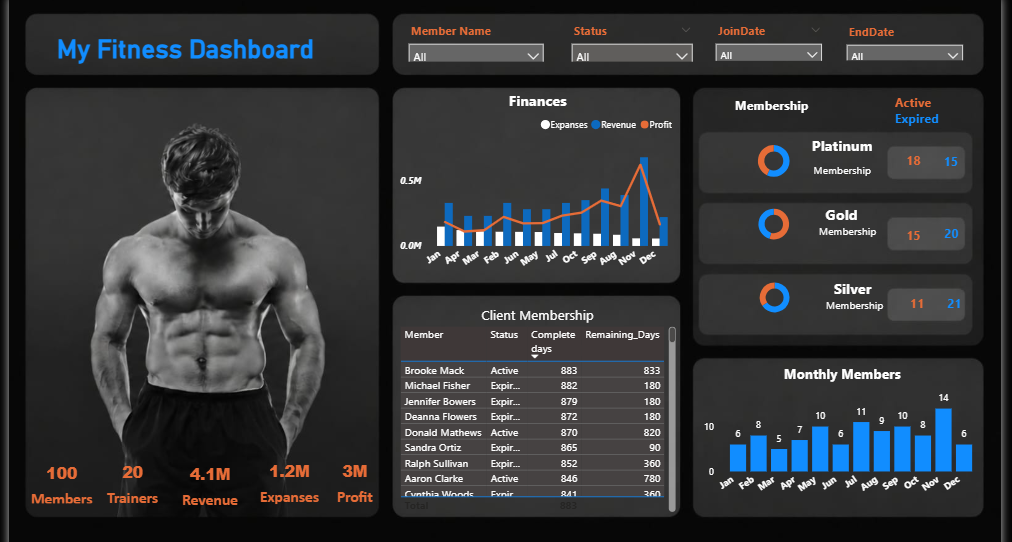

What the dashboard file says about the page in this screenshot:
{"tool":"powerbi","page":{"name":"Page 1","canvas":[1280,720],"ordinal":0},"visuals":[{"type":"card","fields":{"Values":["_Measures.Users_Count"]},"box":[17,598.1,102,60.9],"z":0},{"type":"card","fields":{"Values":["Count(Users.Trainer Name)"]},"box":[102,596.7,114.8,63.8],"z":1000},{"type":"card","fields":{"Values":["_Measures.Revenue"]},"box":[216.9,591,85,79.4],"z":2000},{"type":"card","fields":{"Values":["_Measures.Expanses"]},"box":[314.6,593.9,93.5,66.6],"z":3000},{"type":"lineClusteredColumnComboChart","title":"Finances","fields":{"Category":["Calendar.month"],"Y":["_Measures.Expanses","_Measures.Revenue"],"Y2":["_Measures.Profit"]},"box":[498.9,121.9,365.7,248],"z":4000},{"type":"card","fields":{"Values":["_Measures.Profit"]},"box":[408.2,592.4,76.5,68],"z":5000},{"type":"columnChart","title":"Monthly Members","fields":{"Y":["_Measures.Users_Count"],"Category":["Calendar.Month"]},"box":[891.5,474.8,367.1,185.7],"z":6000},{"type":"tableEx","title":"Client Membership","fields":{"Values":["Users.UserName","Users.Status","_Measures.Complete days","_Measures.Remaining_Days"]},"box":[498.9,398.3,365.7,272.1],"z":7000},{"type":"textbox","box":[1026.1,175.7,99.2,38.3],"z":8000},{"type":"textbox","box":[1043.1,265,63.8,42.5],"z":9000},{"type":"textbox","box":[1058.7,360,66.6,38.3],"z":10000},{"type":"textbox","box":[1026.1,209.8,109.1,35.4],"z":11000},{"type":"textbox","box":[1040.3,289.1,95,35.4],"z":12000},{"type":"textbox","box":[1048.8,384.1,85,28.3],"z":13000},{"type":"textbox","box":[56.7,43.9,351.5,49.6],"z":14000},{"type":"donutChart","fields":{"Y":["_Measures.user_Silver"],"Category":["Users.Status"]},"box":[935.4,360,104.9,58.1],"z":15000},{"type":"donutChart","fields":{"Y":["_Measures.user_platinum"],"Category":["Users.Status"]},"box":[925.5,265,123.3,59.5],"z":16000},{"type":"donutChart","fields":{"Y":["_Measures.user_Gold"],"Category":["Users.Status"]},"box":[946.8,178.6,79.4,69.4],"z":17000},{"type":"card","fields":{"Values":["_Measures.Platinum_Active"]},"box":[1146.6,199.8,39.7,28.3],"z":18000},{"type":"card","fields":{"Values":["_Measures.Platinum_Expired"]},"box":[1194.8,195.6,41.1,39.7],"z":19000},{"type":"card","fields":{"Values":["_Measures.Gold_Active"]},"box":[1138.1,289.1,58.1,42.5],"z":20000},{"type":"card","fields":{"Values":["_Measures.Gold_Expired"]},"box":[1196.2,289.1,39.7,39.7],"z":21000},{"type":"card","fields":{"Values":["_Measures.Silver_Expired"]},"box":[1199.1,372.8,42.5,51],"z":22000},{"type":"card","fields":{"Values":["_Measures.Silver_Active"]},"box":[1146.6,372.8,49.6,51],"z":23000},{"type":"textbox","box":[1138.1,121.9,97.8,53.9],"z":24000},{"type":"textbox","box":[931.2,124.7,127.6,35.4],"z":25000},{"type":"slicer","fields":{"Values":["Users.UserName"]},"box":[506,29.8,194.2,55.3],"z":26000},{"type":"slicer","fields":{"Values":["Users.Status"]},"box":[715.7,29.8,175.7,55.3],"z":27000},{"type":"slicer","fields":{"Values":["Users.JoinDate"]},"box":[901.4,29.8,157.3,53.9],"z":28000},{"type":"slicer","fields":{"Values":["Users.MembershipEnd"]},"box":[1071.5,31.2,170.1,52.4],"z":29000}]}

Visuals, with their boxes on the page's 1280x720 design canvas (x1, y1, x2, y2). These are canvas units, not pixel positions in the 1012x542 screenshot, which may show the page scaled, cropped or inside an application window:
card - _Measures.Users_Count: select_region(17, 598, 119, 659)
card - Count(Users.Trainer Name): select_region(102, 597, 217, 660)
card - _Measures.Revenue: select_region(217, 591, 302, 670)
card - _Measures.Expanses: select_region(315, 594, 408, 660)
"Finances" lineClusteredColumnComboChart: select_region(499, 122, 865, 370)
card - _Measures.Profit: select_region(408, 592, 485, 660)
"Monthly Members" columnChart: select_region(892, 475, 1259, 660)
"Client Membership" tableEx: select_region(499, 398, 865, 670)
textbox: select_region(1026, 176, 1125, 214)
textbox: select_region(1043, 265, 1107, 308)
textbox: select_region(1059, 360, 1125, 398)
textbox: select_region(1026, 210, 1135, 245)
textbox: select_region(1040, 289, 1135, 324)
textbox: select_region(1049, 384, 1134, 412)
textbox: select_region(57, 44, 408, 94)
donutChart - _Measures.user_Silver x Users.Status: select_region(935, 360, 1040, 418)
donutChart - _Measures.user_platinum x Users.Status: select_region(926, 265, 1049, 324)
donutChart - _Measures.user_Gold x Users.Status: select_region(947, 179, 1026, 248)
card - _Measures.Platinum_Active: select_region(1147, 200, 1186, 228)
card - _Measures.Platinum_Expired: select_region(1195, 196, 1236, 235)
card - _Measures.Gold_Active: select_region(1138, 289, 1196, 332)
card - _Measures.Gold_Expired: select_region(1196, 289, 1236, 329)
card - _Measures.Silver_Expired: select_region(1199, 373, 1242, 424)
card - _Measures.Silver_Active: select_region(1147, 373, 1196, 424)
textbox: select_region(1138, 122, 1236, 176)
textbox: select_region(931, 125, 1059, 160)
slicer - Users.UserName: select_region(506, 30, 700, 85)
slicer - Users.Status: select_region(716, 30, 891, 85)
slicer - Users.JoinDate: select_region(901, 30, 1059, 84)
slicer - Users.MembershipEnd: select_region(1072, 31, 1242, 84)
